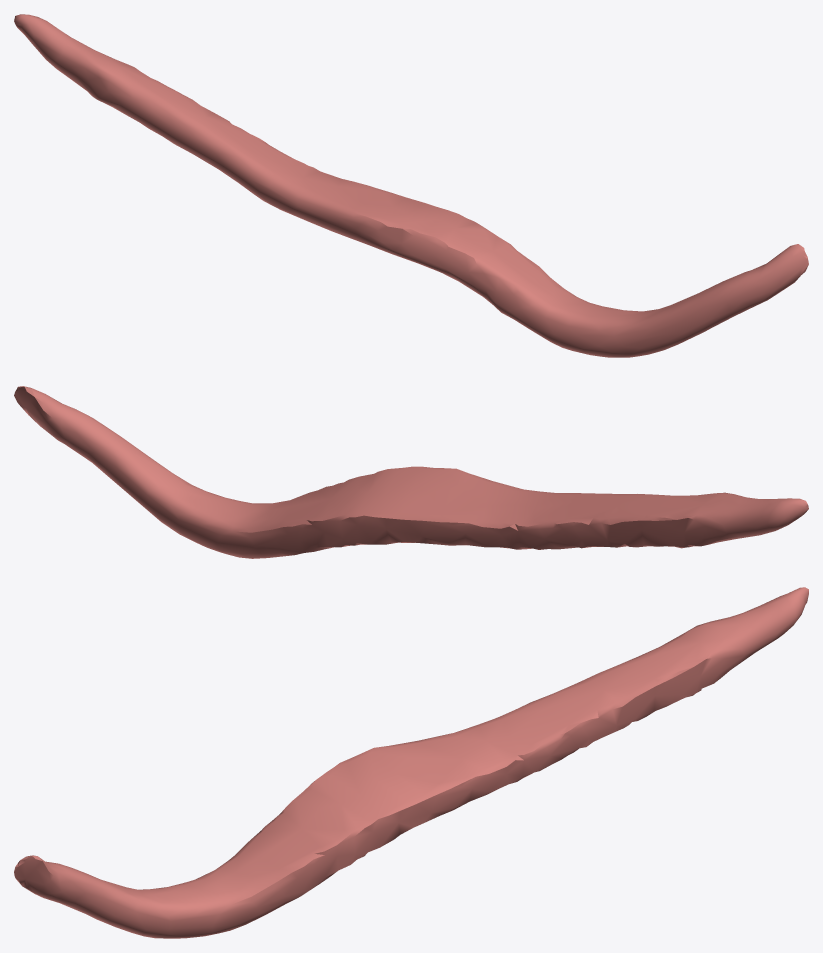
The model's file is fma37720_mm1739.glb.
The picture shows the model from 3 angles, top to bottom: view 1: azimuth 30°, elevation 25°; view 2: azimuth 210°, elevation 25°; view 3: azimuth 270°, elevation 25°; orthographic projection. The views are drawn at different scales.
Parts seen in each view (by area): view 1: FMA37720_MM1739; view 2: FMA37720_MM1739; view 3: FMA37720_MM1739.
Boxes of the visible parts, bbox=[...] form: FMA37720_MM1739: bbox=[14, 14, 808, 357]; FMA37720_MM1739: bbox=[14, 386, 808, 558]; FMA37720_MM1739: bbox=[14, 587, 808, 938].
Size of the model in its own units: 0.0438 by 0.0193 by 0.0696.
